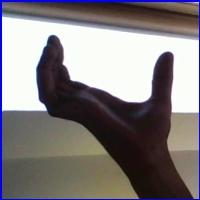space: (37, 29, 181, 164)
